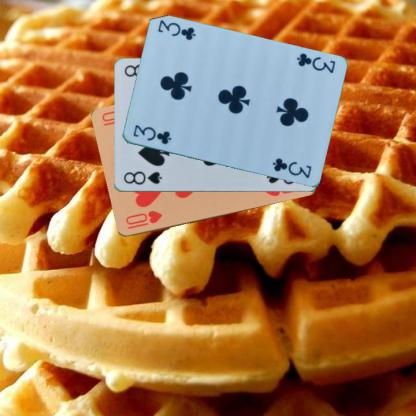10h: (122, 208, 164, 231)
3c: (294, 51, 336, 75), (130, 123, 172, 146)
8s: (121, 169, 163, 187)
